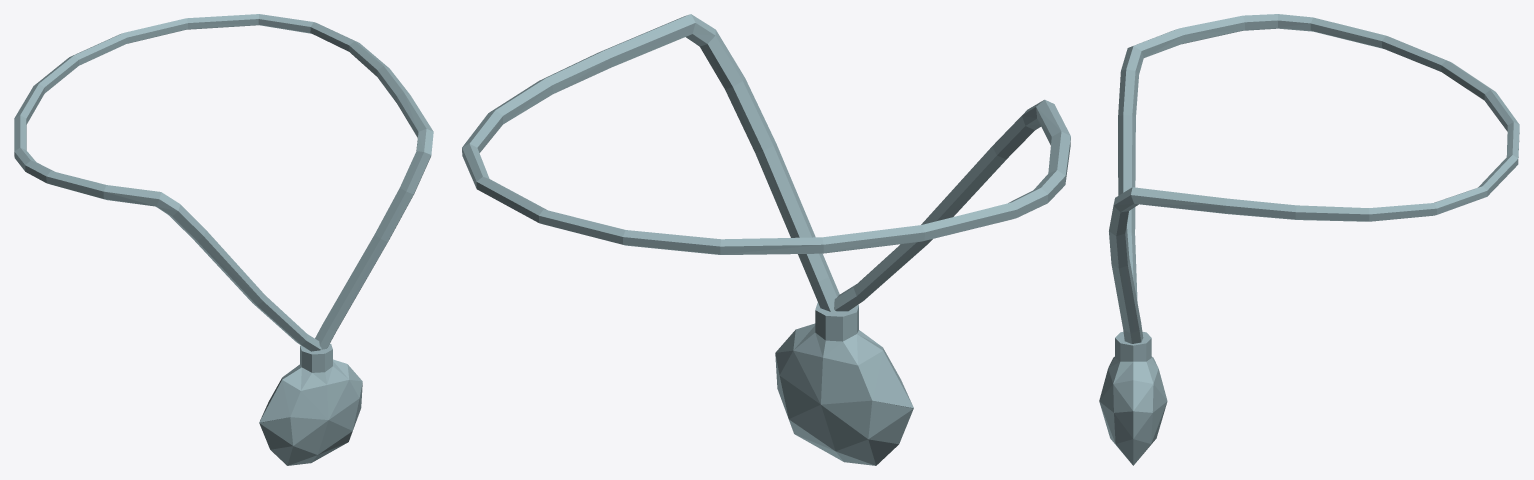
File: Medal.fbx
The picture shows the model from 3 angles, left to right: view 1: azimuth 30°, elevation 25°; view 2: azimuth 150°, elevation 25°; view 3: azimuth 270°, elevation 25°; orthographic projection. The views are drawn at different scales.
Visible parts, largest first — view 1: medal_0; view 2: medal_0; view 3: medal_0.
Boxes of the visible parts, <box> form: medal_0: <box>14,14,433,465</box>; medal_0: <box>462,14,1070,465</box>; medal_0: <box>1099,14,1519,465</box>.
Size of the model in its own units: 1 by 0.7815 by 0.8926.
